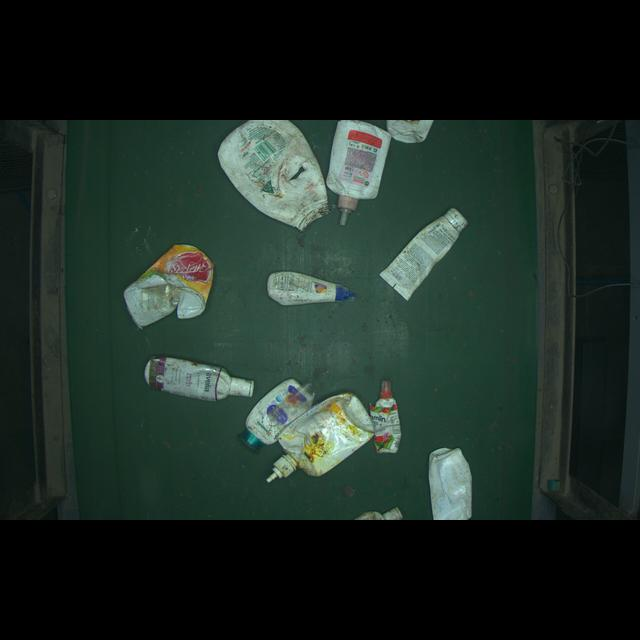mix PET: (111, 236, 220, 337), (145, 345, 256, 407), (243, 362, 308, 451), (364, 378, 418, 460), (268, 267, 358, 310)
